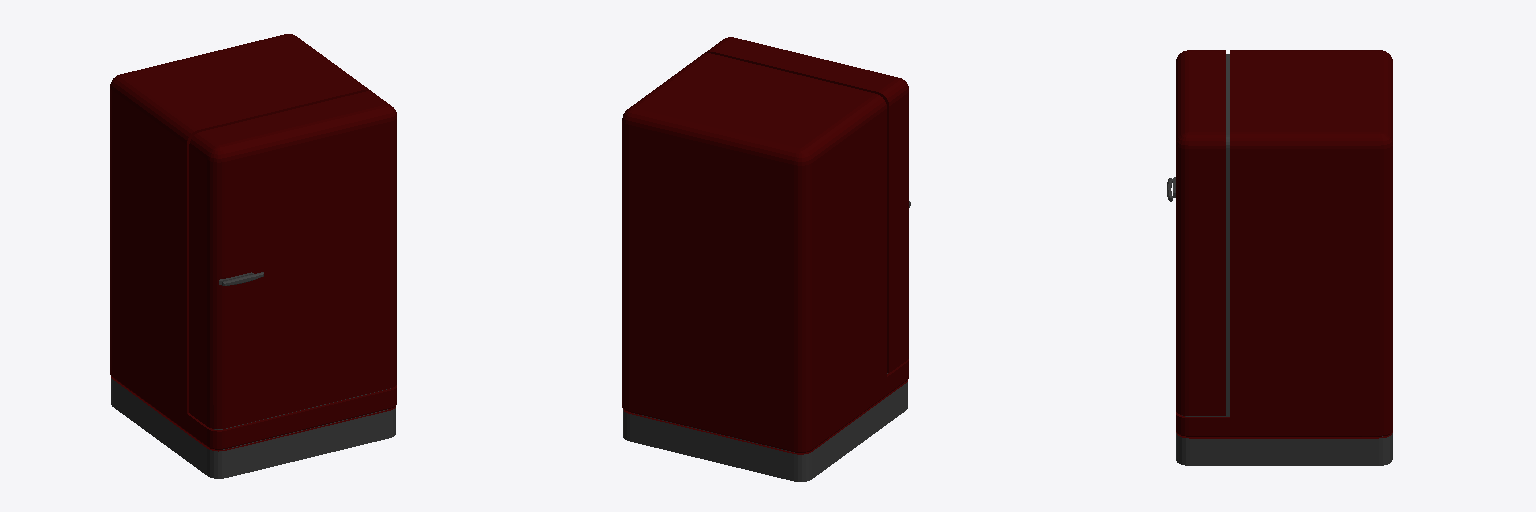
The model's file is Refri15x25.obj.
The picture shows the model from 3 angles: view 1: azimuth 30°, elevation 25°; view 2: azimuth 150°, elevation 25°; view 3: azimuth 270°, elevation 25°; orthographic projection.
Parts seen in each view (by area): view 1: Refrigerador15x25:pCube51 Refrigerador15x25:Refrigerador15x25; view 2: Refrigerador15x25:pCube51 Refrigerador15x25:Refrigerador15x25; view 3: Refrigerador15x25:pCube51 Refrigerador15x25:Refrigerador15x25.
Part boxes in pixels (x1,y1,x2,y2): Refrigerador15x25:pCube51 Refrigerador15x25:Refrigerador15x25: (110,34,396,478); Refrigerador15x25:pCube51 Refrigerador15x25:Refrigerador15x25: (622,37,909,481); Refrigerador15x25:pCube51 Refrigerador15x25:Refrigerador15x25: (1173,50,1392,465).
Bounding box in the file's own units: 15 × 25 × 15.61.